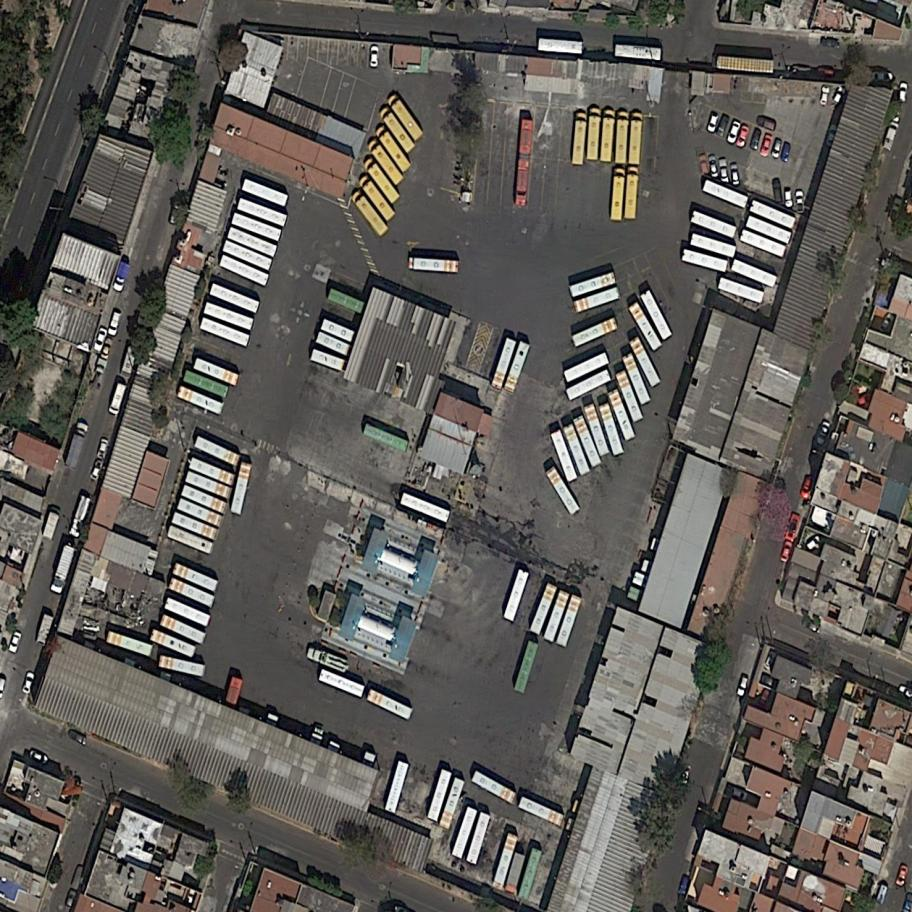large-vehicle: (360, 153, 404, 206), (384, 90, 427, 144), (364, 135, 408, 187), (376, 105, 419, 158), (356, 172, 399, 225), (626, 334, 666, 389), (348, 188, 391, 239), (373, 123, 415, 175), (543, 465, 583, 517), (638, 287, 675, 343), (627, 300, 666, 353), (398, 490, 454, 525), (489, 831, 521, 892), (217, 253, 272, 288), (220, 237, 275, 272), (560, 422, 594, 478), (364, 686, 415, 723), (175, 496, 228, 531), (527, 581, 560, 637), (613, 369, 646, 425), (571, 414, 604, 470), (46, 540, 79, 596), (564, 367, 615, 403), (562, 350, 613, 386), (226, 225, 280, 259), (157, 612, 209, 647), (235, 196, 290, 229), (199, 315, 253, 348), (208, 282, 262, 315), (166, 576, 218, 610), (470, 769, 519, 805), (202, 301, 257, 333), (489, 334, 519, 392), (382, 759, 412, 817), (215, 676, 244, 736), (621, 352, 652, 408), (554, 593, 585, 649), (569, 315, 620, 349), (148, 627, 199, 661), (230, 211, 284, 243), (187, 455, 239, 488), (170, 561, 222, 594), (165, 524, 217, 557), (170, 511, 222, 544), (582, 401, 612, 458), (701, 177, 751, 211), (174, 384, 225, 417), (192, 355, 243, 388), (193, 435, 244, 468), (180, 483, 231, 516), (511, 639, 541, 695), (607, 388, 637, 444), (549, 429, 580, 483), (502, 339, 532, 394), (163, 596, 213, 629), (425, 768, 455, 823), (744, 214, 794, 247), (450, 805, 480, 860), (317, 667, 368, 699), (729, 258, 780, 290), (738, 227, 789, 259), (240, 177, 291, 209), (516, 846, 545, 902), (464, 811, 493, 867), (501, 568, 531, 622), (517, 794, 566, 827), (748, 199, 798, 231), (542, 589, 571, 644), (437, 776, 466, 831), (184, 470, 235, 501), (181, 368, 230, 400), (104, 628, 156, 658), (61, 421, 91, 473), (689, 210, 739, 241), (598, 401, 625, 458), (572, 285, 623, 315), (569, 270, 619, 300), (253, 712, 281, 765), (350, 750, 378, 803), (688, 231, 739, 259), (714, 53, 775, 76), (66, 493, 96, 539), (717, 276, 766, 304), (157, 653, 207, 680), (230, 460, 254, 516), (305, 646, 351, 675), (300, 727, 325, 778), (313, 329, 355, 359), (316, 742, 341, 791), (681, 248, 730, 273), (308, 346, 350, 375), (326, 286, 368, 315), (616, 42, 664, 65), (623, 166, 643, 220), (538, 35, 586, 57), (319, 317, 358, 344), (626, 112, 645, 167), (609, 166, 627, 224), (407, 255, 459, 275), (598, 109, 617, 163), (585, 108, 603, 161), (571, 110, 588, 166), (613, 111, 630, 165)
small-vehicle: (106, 379, 131, 417), (109, 260, 134, 293), (166, 191, 187, 228), (879, 122, 900, 151), (91, 325, 110, 353), (106, 308, 124, 337), (734, 122, 752, 150), (725, 118, 743, 146), (714, 112, 732, 139), (758, 131, 775, 159), (95, 435, 113, 461), (829, 85, 849, 108), (67, 728, 91, 747), (676, 872, 694, 897), (6, 629, 24, 654), (98, 336, 116, 361), (895, 863, 912, 889), (815, 420, 832, 446), (877, 311, 896, 334), (755, 114, 779, 132), (27, 748, 51, 766), (799, 475, 816, 500), (705, 109, 722, 134), (779, 540, 796, 564), (770, 136, 786, 160), (749, 126, 765, 150), (89, 458, 105, 482), (805, 533, 825, 552), (801, 619, 823, 636), (717, 156, 730, 184), (706, 153, 720, 179), (22, 670, 36, 695), (771, 178, 784, 204), (736, 675, 750, 699), (367, 45, 381, 69), (819, 35, 841, 49), (680, 763, 693, 786), (819, 83, 831, 107), (871, 71, 894, 83), (730, 163, 741, 187), (780, 140, 792, 162), (897, 82, 909, 104), (795, 190, 805, 214), (782, 188, 793, 208)
